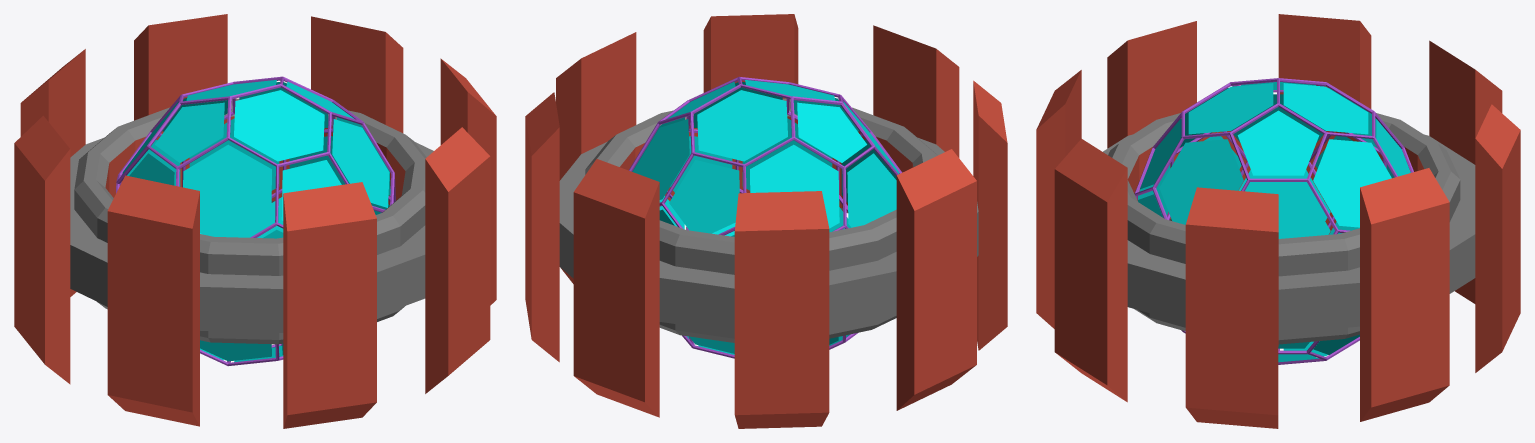
The model's file is CannonBall Target.fbx.
The picture shows the model from 3 angles, left to right: view 1: azimuth 30°, elevation 25°; view 2: azimuth 150°, elevation 25°; view 3: azimuth 270°, elevation 25°; orthographic projection.
Parts seen in each view (by area): view 1: Cylinder, Solid.001, Solid; view 2: Cylinder, Solid.001, Solid; view 3: Cylinder, Solid.001, Solid.
Boxes of the visible parts, <box> form: Cylinder: <box>14,14,496,428</box>; Solid.001: <box>122,80,390,362</box>; Solid: <box>116,76,395,366</box>; Cylinder: <box>525,14,1007,428</box>; Solid.001: <box>632,80,899,354</box>; Solid: <box>628,76,901,358</box>; Cylinder: <box>1036,14,1520,428</box>; Solid.001: <box>1138,82,1410,362</box>; Solid: <box>1134,78,1413,364</box>.
Size of the model in its own units: 1157 by 689 by 1157.
